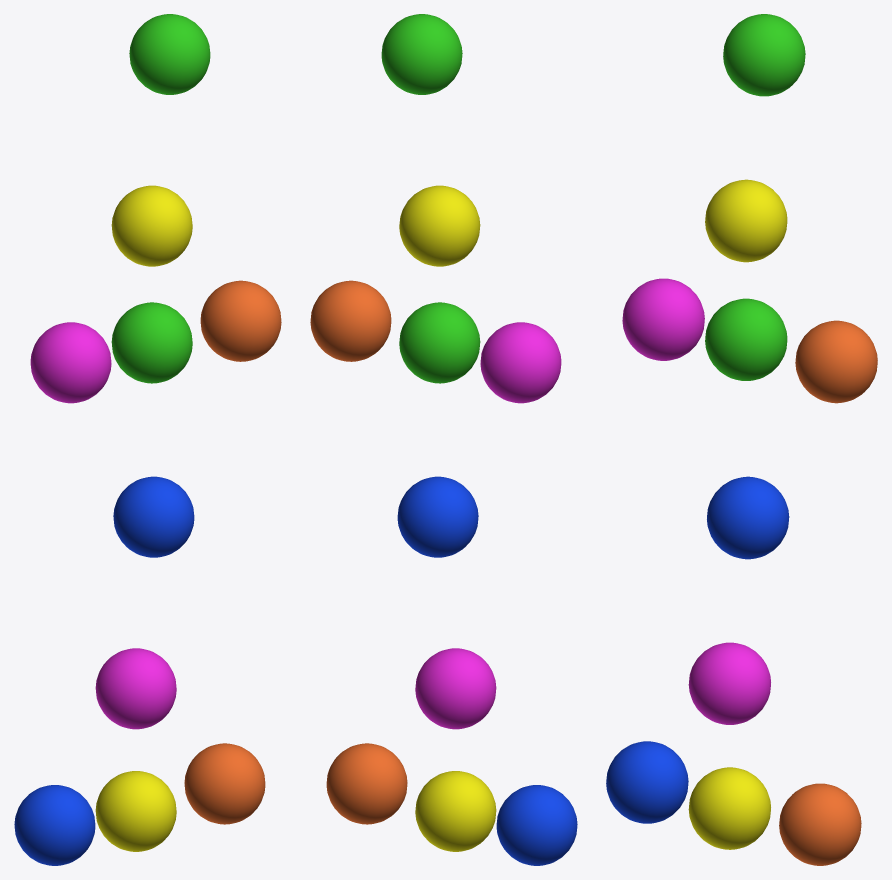
Rendered from balls.gltf.
3 renders of one model, left to right at view 1: azimuth 30°, elevation 25°; view 2: azimuth 150°, elevation 25°; view 3: azimuth 330°, elevation 25°, orthographic.
Visible parts, largest first — view 1: Sphere.006, Sphere.009, Sphere, Sphere.002, Sphere.008, Sphere.001, Sphere.003, Sphere.005, Sphere.007, Sphere.004; view 2: Sphere.006, Sphere.009, Sphere, Sphere.002, Sphere.008, Sphere.001, Sphere.003, Sphere.005, Sphere.007, Sphere.004; view 3: Sphere.007, Sphere.009, Sphere.004, Sphere.006, Sphere.008, Sphere.003, Sphere, Sphere.001, Sphere.002, Sphere.005.
Boxes of the visible parts, box(x1,y1,x2,y2) form: Sphere.006: box(184, 743, 265, 824); Sphere.009: box(113, 476, 194, 557); Sphere: box(111, 302, 192, 383); Sphere.002: box(30, 322, 111, 403); Sphere.008: box(95, 648, 176, 729); Sphere.001: box(200, 280, 281, 361); Sphere.003: box(111, 185, 192, 266); Sphere.005: box(95, 771, 176, 851); Sphere.007: box(14, 785, 95, 865); Sphere.004: box(129, 14, 210, 94); Sphere.006: box(326, 743, 407, 824); Sphere.009: box(397, 476, 478, 557); Sphere: box(399, 302, 480, 383); Sphere.002: box(480, 322, 561, 403); Sphere.008: box(415, 648, 496, 729); Sphere.001: box(310, 280, 391, 361); Sphere.003: box(399, 185, 480, 266); Sphere.005: box(415, 771, 496, 851); Sphere.007: box(496, 785, 577, 865); Sphere.004: box(381, 14, 462, 94); Sphere.007: box(606, 741, 688, 823); Sphere.009: box(707, 476, 789, 559); Sphere.004: box(723, 14, 805, 96); Sphere.006: box(779, 783, 861, 865); Sphere.008: box(688, 642, 770, 724); Sphere.003: box(705, 179, 787, 262); Sphere: box(705, 298, 787, 380); Sphere.001: box(795, 320, 877, 403); Sphere.002: box(622, 278, 704, 360); Sphere.005: box(688, 767, 770, 849).
Bounding box in the file's own units: 1.24 × 3.79 × 0.339.
